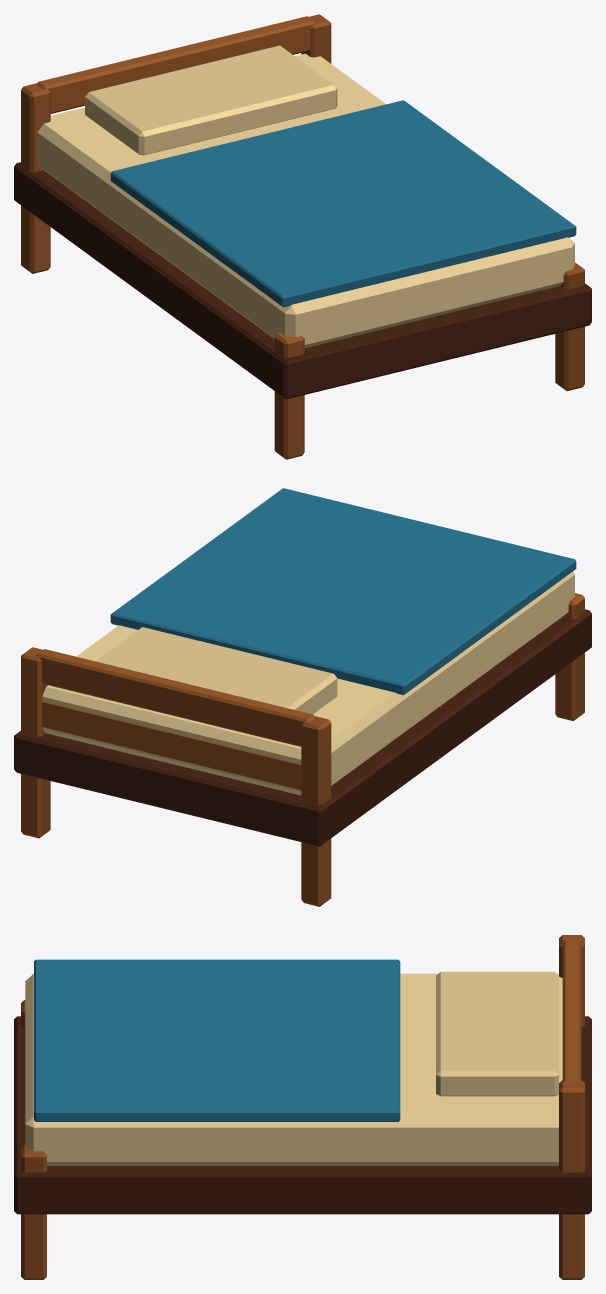
File: EH_Bed.fbx
The picture shows the model from 3 angles, top to bottom: view 1: azimuth 30°, elevation 25°; view 2: azimuth 150°, elevation 25°; view 3: azimuth 270°, elevation 25°; orthographic projection. The views are drawn at different scales.
Parts seen in each view (by area): view 1: EH_Bed; view 2: EH_Bed; view 3: EH_Bed.
Part boxes in pixels (x1=…): EH_Bed: x1=14, y1=14, x2=591, y2=459; EH_Bed: x1=14, y1=488, x2=591, y2=906; EH_Bed: x1=14, y1=935, x2=591, y2=1279.
Size of the model in its own units: 1.32 by 0.75 by 2.02.
